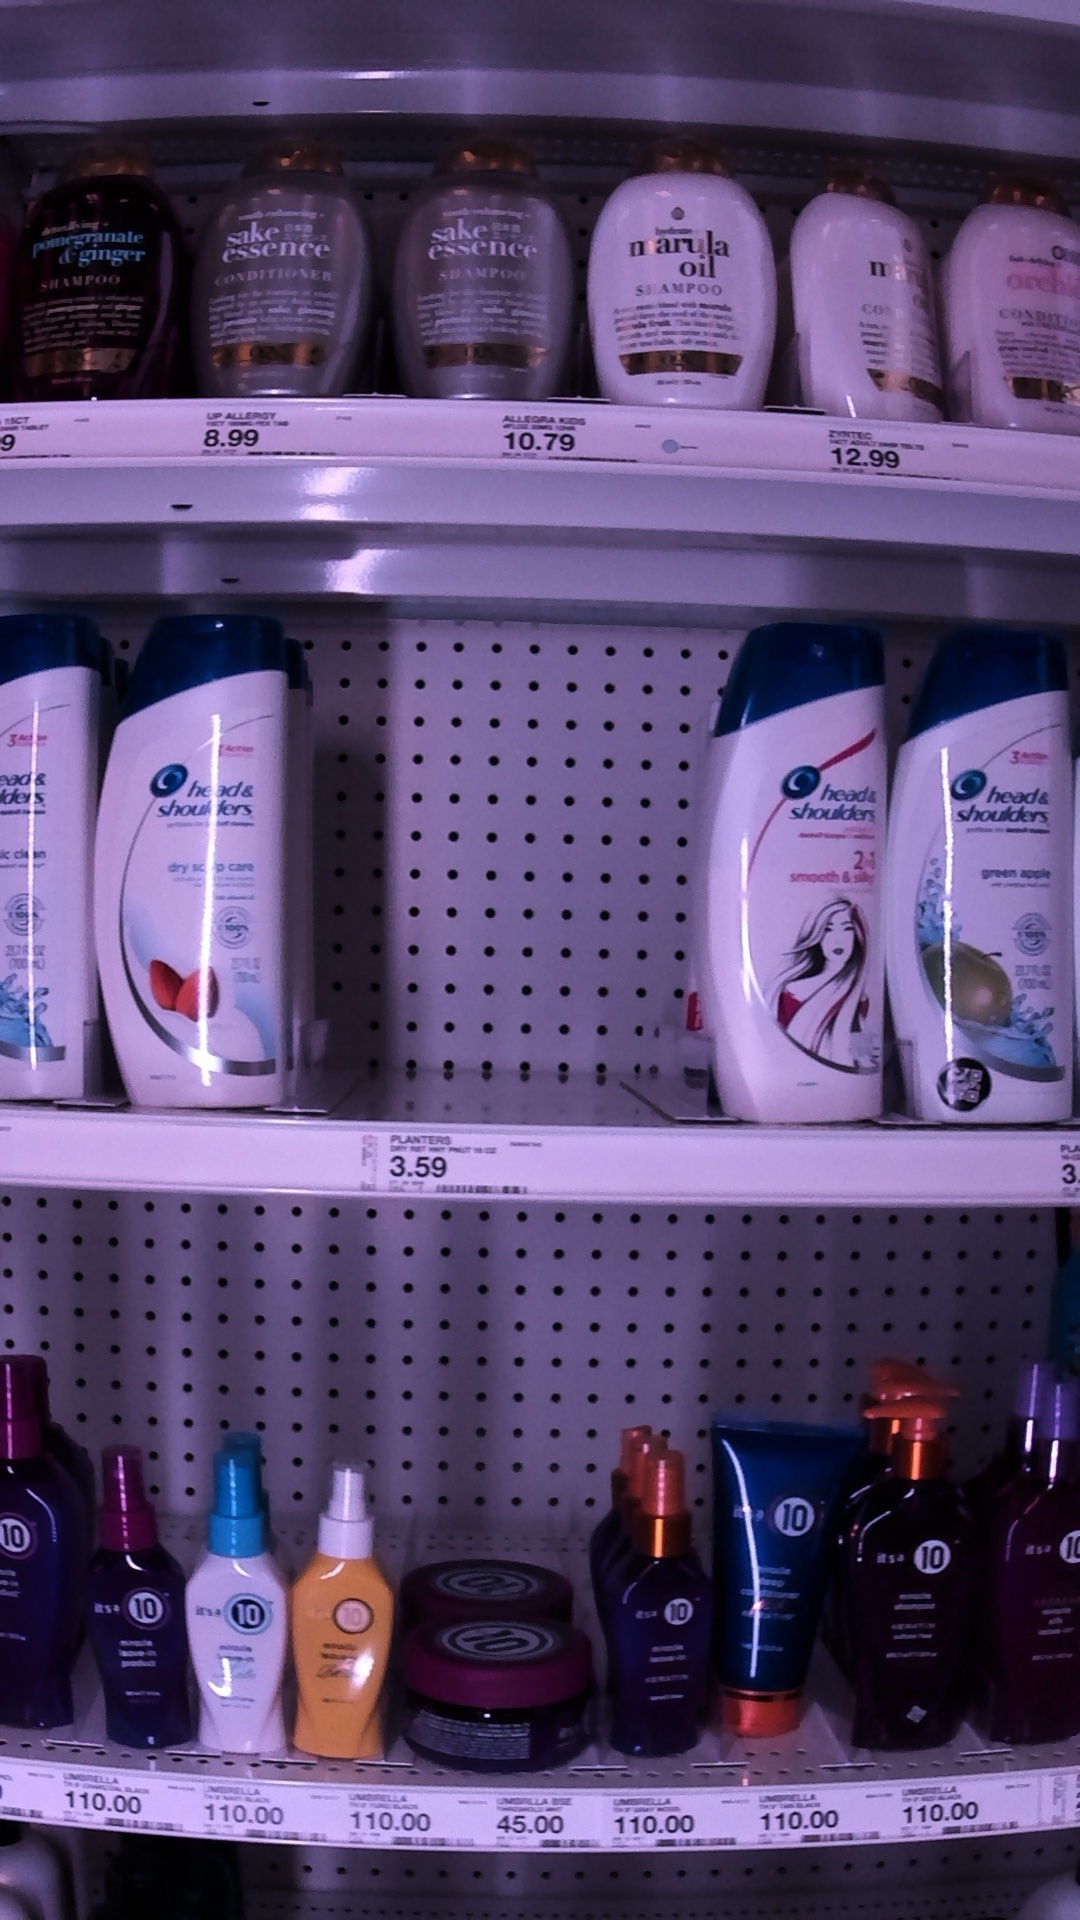ptag: (360, 1116, 551, 1203), (484, 393, 649, 471), (198, 1756, 315, 1859), (344, 1768, 473, 1859), (55, 1755, 179, 1842), (620, 1778, 738, 1866), (762, 1771, 880, 1859), (818, 413, 942, 493), (898, 1768, 1022, 1849), (195, 400, 344, 462), (489, 1780, 600, 1859)
